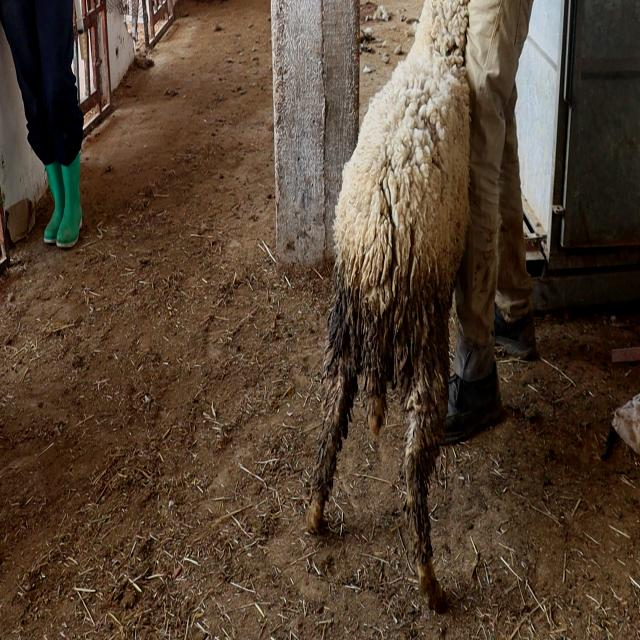Score_3: (306, 0, 470, 612)
